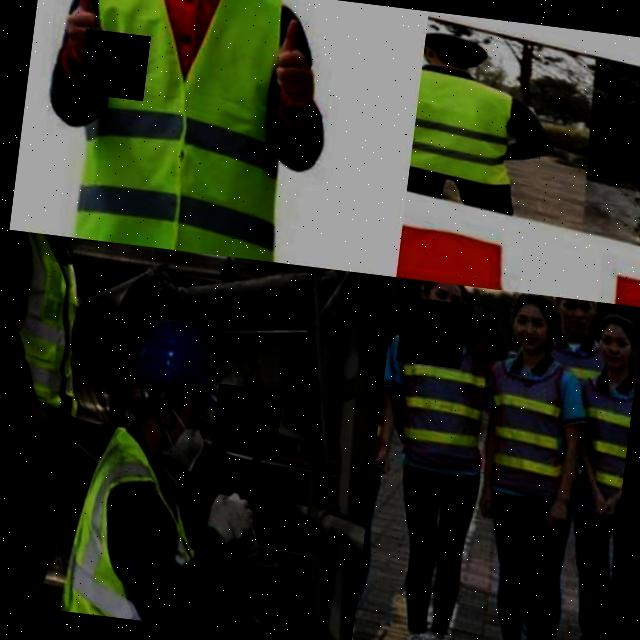vest: (35, 0, 316, 263), (42, 421, 226, 628), (0, 229, 113, 417), (461, 348, 587, 498), (408, 64, 527, 190), (382, 332, 498, 457), (555, 364, 636, 511)
